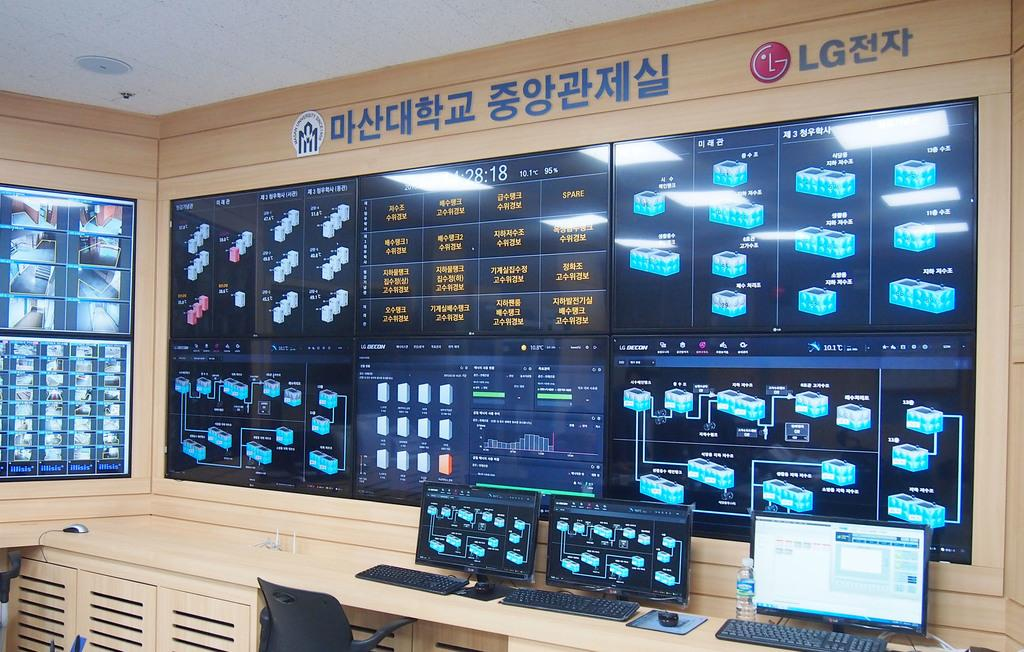Computer-keyboard: (712, 618, 892, 651), (499, 588, 639, 624), (351, 562, 467, 597)
Computer-monitor: (756, 513, 924, 624), (544, 494, 699, 600), (415, 481, 541, 580)
